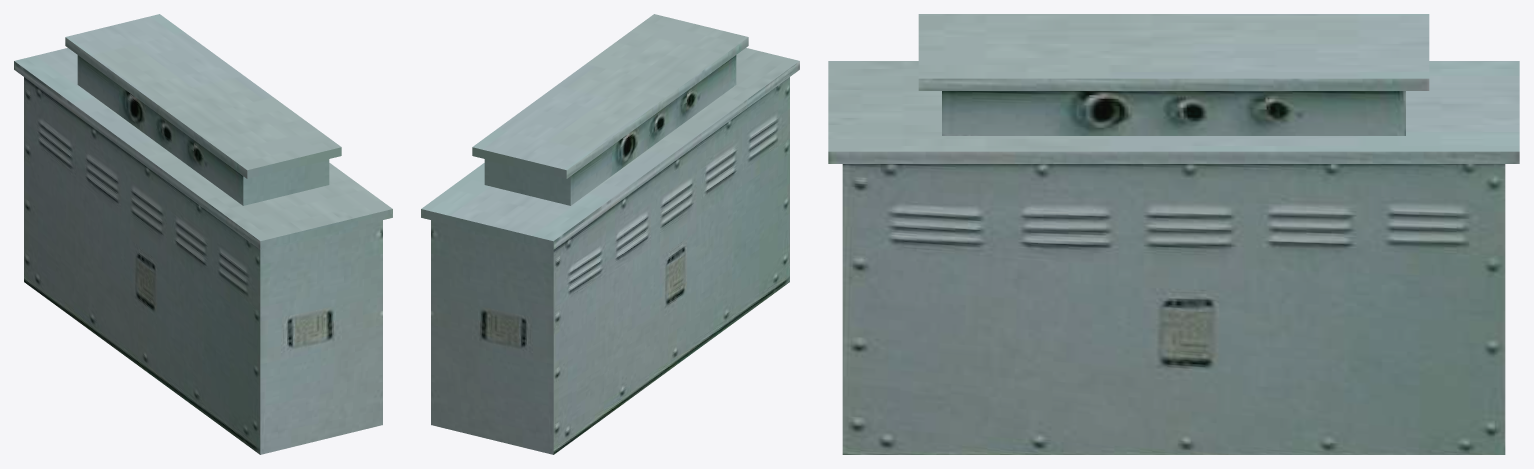
File: ElConverter.glb
The picture shows the model from 3 angles, left to right: view 1: azimuth 30°, elevation 25°; view 2: azimuth 150°, elevation 25°; view 3: azimuth 270°, elevation 25°; orthographic projection. The views are drawn at different scales.
Parts seen in each view (by area): view 1: ElectricnicConvertor; view 2: ElectricnicConvertor; view 3: ElectricnicConvertor.
Part boxes in pixels (bbox=[...]): ElectricnicConvertor: bbox=[14, 14, 392, 454]; ElectricnicConvertor: bbox=[421, 14, 799, 454]; ElectricnicConvertor: bbox=[828, 14, 1519, 454].
Size of the model in its own units: 1.29 by 2.44 by 4.17.
Materials: 1 (1 with a texture image).
